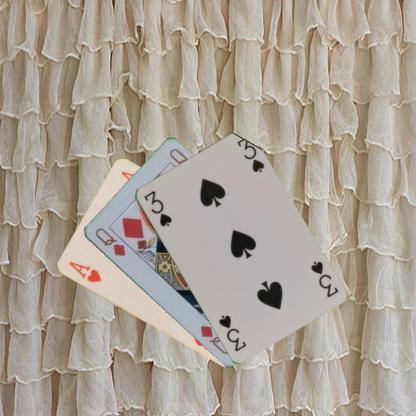3s: (308, 258, 340, 299), (141, 188, 173, 228)
Ah: (66, 259, 102, 284)
Qd: (92, 226, 127, 258)
